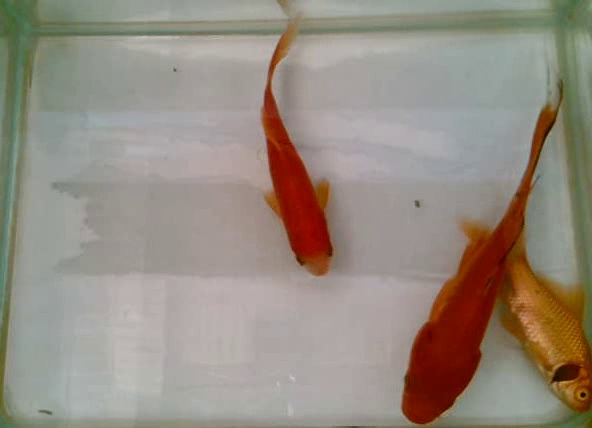alive_fish: (392, 60, 567, 428), (240, 1, 361, 283)
dead_fish: (454, 214, 592, 416)
